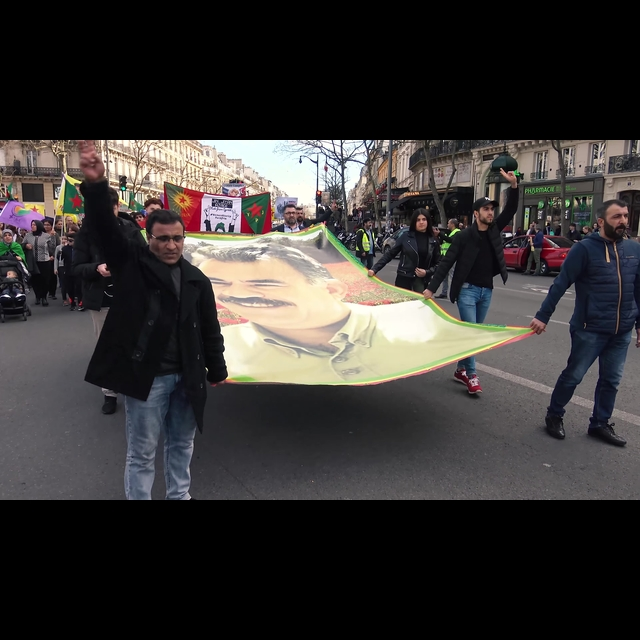YPJ: (246, 198, 268, 231)
ZI: (493, 161, 521, 189)
